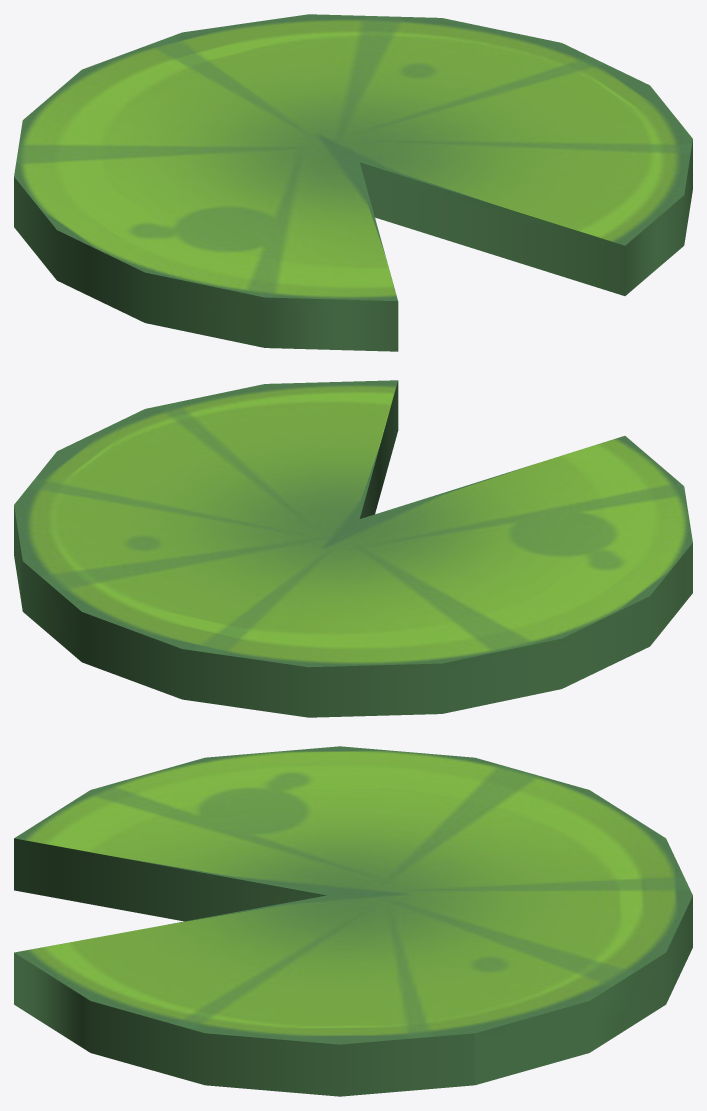
File: lotus_leaf.obj
3 renders of one model, top to bottom at view 1: azimuth 30°, elevation 25°; view 2: azimuth 150°, elevation 25°; view 3: azimuth 270°, elevation 25°, orthographic. The views are drawn at different scales.
Visible parts, largest first — view 1: lotus_leaf:pasted__pCylinder1group15; view 2: lotus_leaf:pasted__pCylinder1group15; view 3: lotus_leaf:pasted__pCylinder1group15.
Boxes of the visible parts, x1,y1,x2,y2 form: lotus_leaf:pasted__pCylinder1group15: (14,14,692,351); lotus_leaf:pasted__pCylinder1group15: (14,380,692,717); lotus_leaf:pasted__pCylinder1group15: (14,746,692,1096).
Size of the model in its own units: 0.764 by 0.0622 by 0.7349.
Materials: 1 (1 with a texture image).
